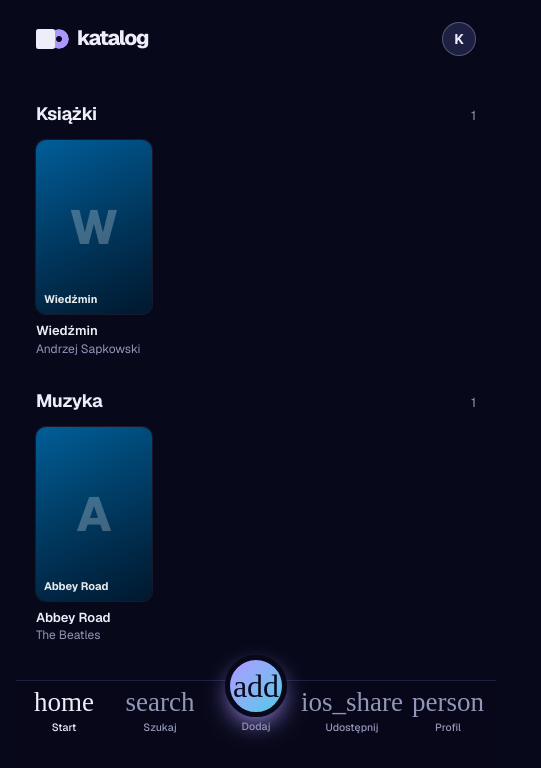
Test: Dashboard › shows and saves the display name on the profile
Check: the element "Książki" is shown, box top-left (16, 100), bottom-right (496, 360)
Click the button "Profil". click: [448, 724]
box: top-left (400, 689), bottom-right (496, 760)
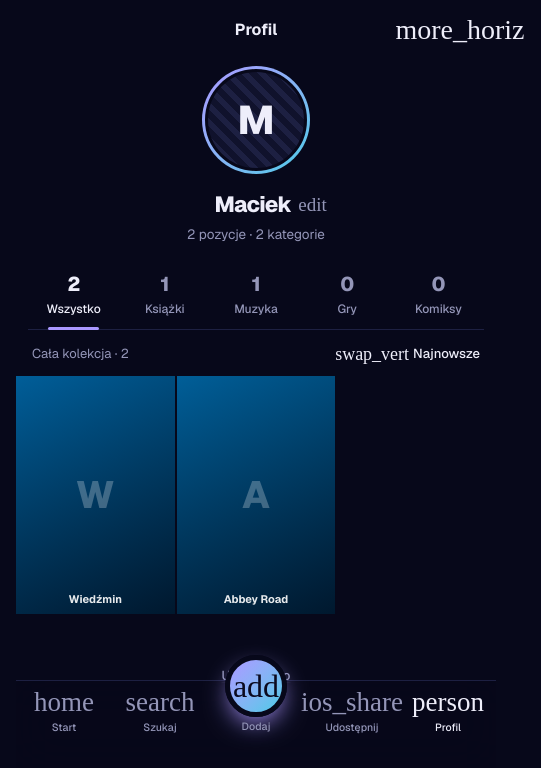
Check: the text "Maciek" is shown, box top-left (214, 188), bottom-right (292, 221)
Click the button named "Edytuj nazwę". click: [312, 204]
box: top-left (298, 190), bottom-right (328, 220)
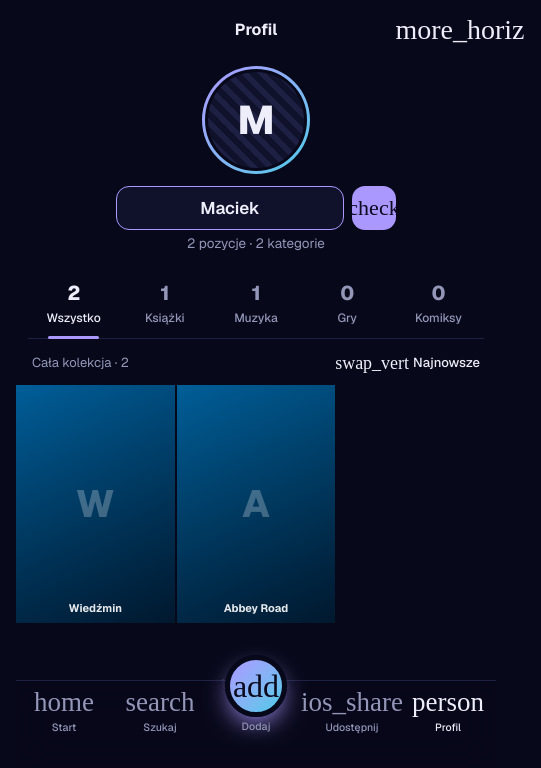
Replace the text in the field named "Nazwa wyświetlana" with "Maciej T.". click: [230, 208]
box: top-left (116, 186), bottom-right (344, 230)
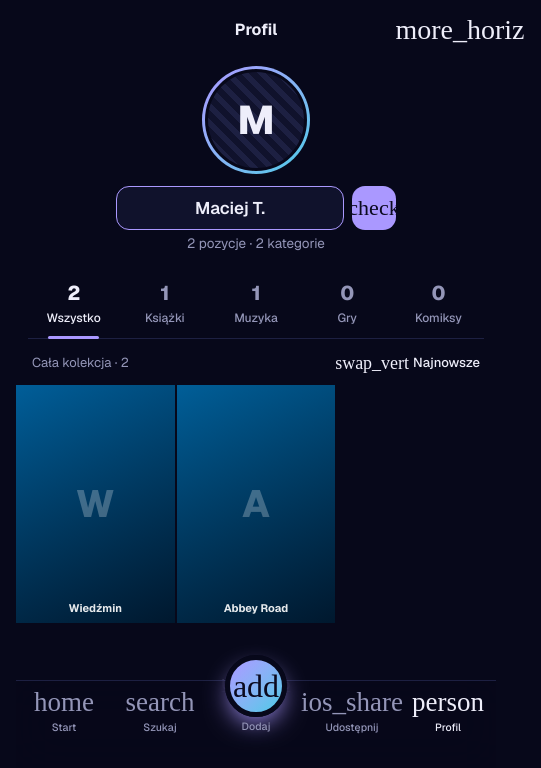
Click the button named "Zapisz nazwę". click: [374, 208]
box: top-left (352, 186), bottom-right (396, 230)
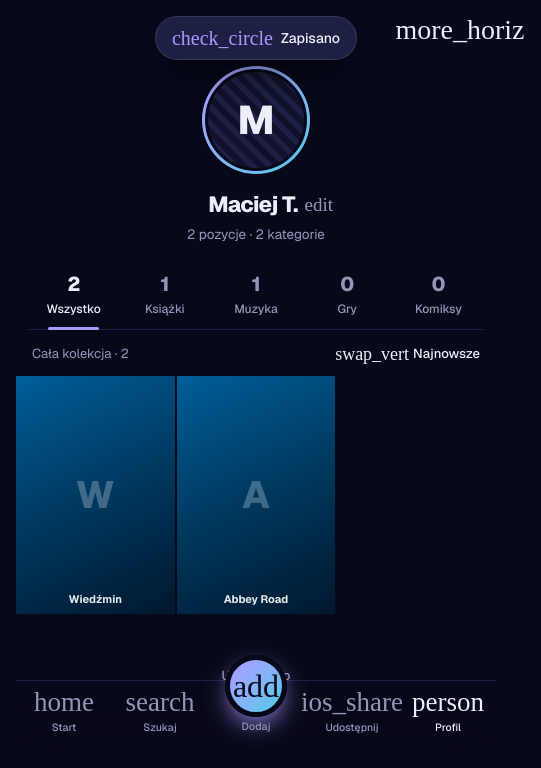
Check: the text "Zapisano" is shown, box top-left (155, 16), bottom-right (357, 60)
Check: the text "Maciej T." is shown, box top-left (208, 188), bottom-right (298, 221)
